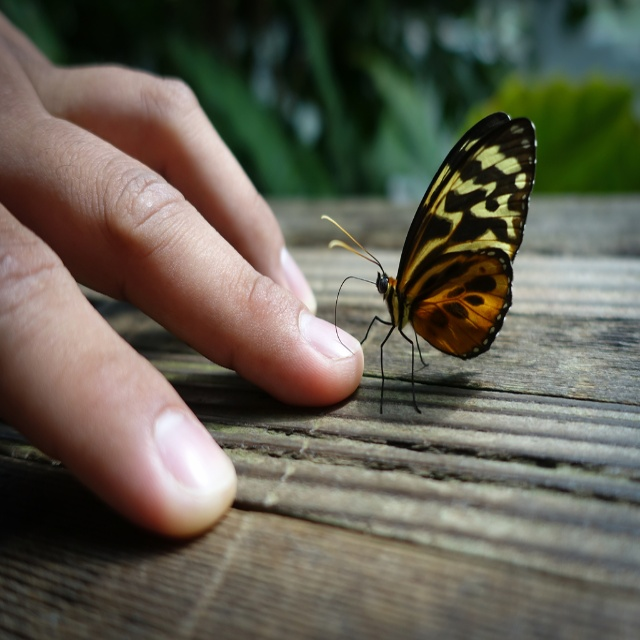Butterfly: (316, 104, 540, 398)
